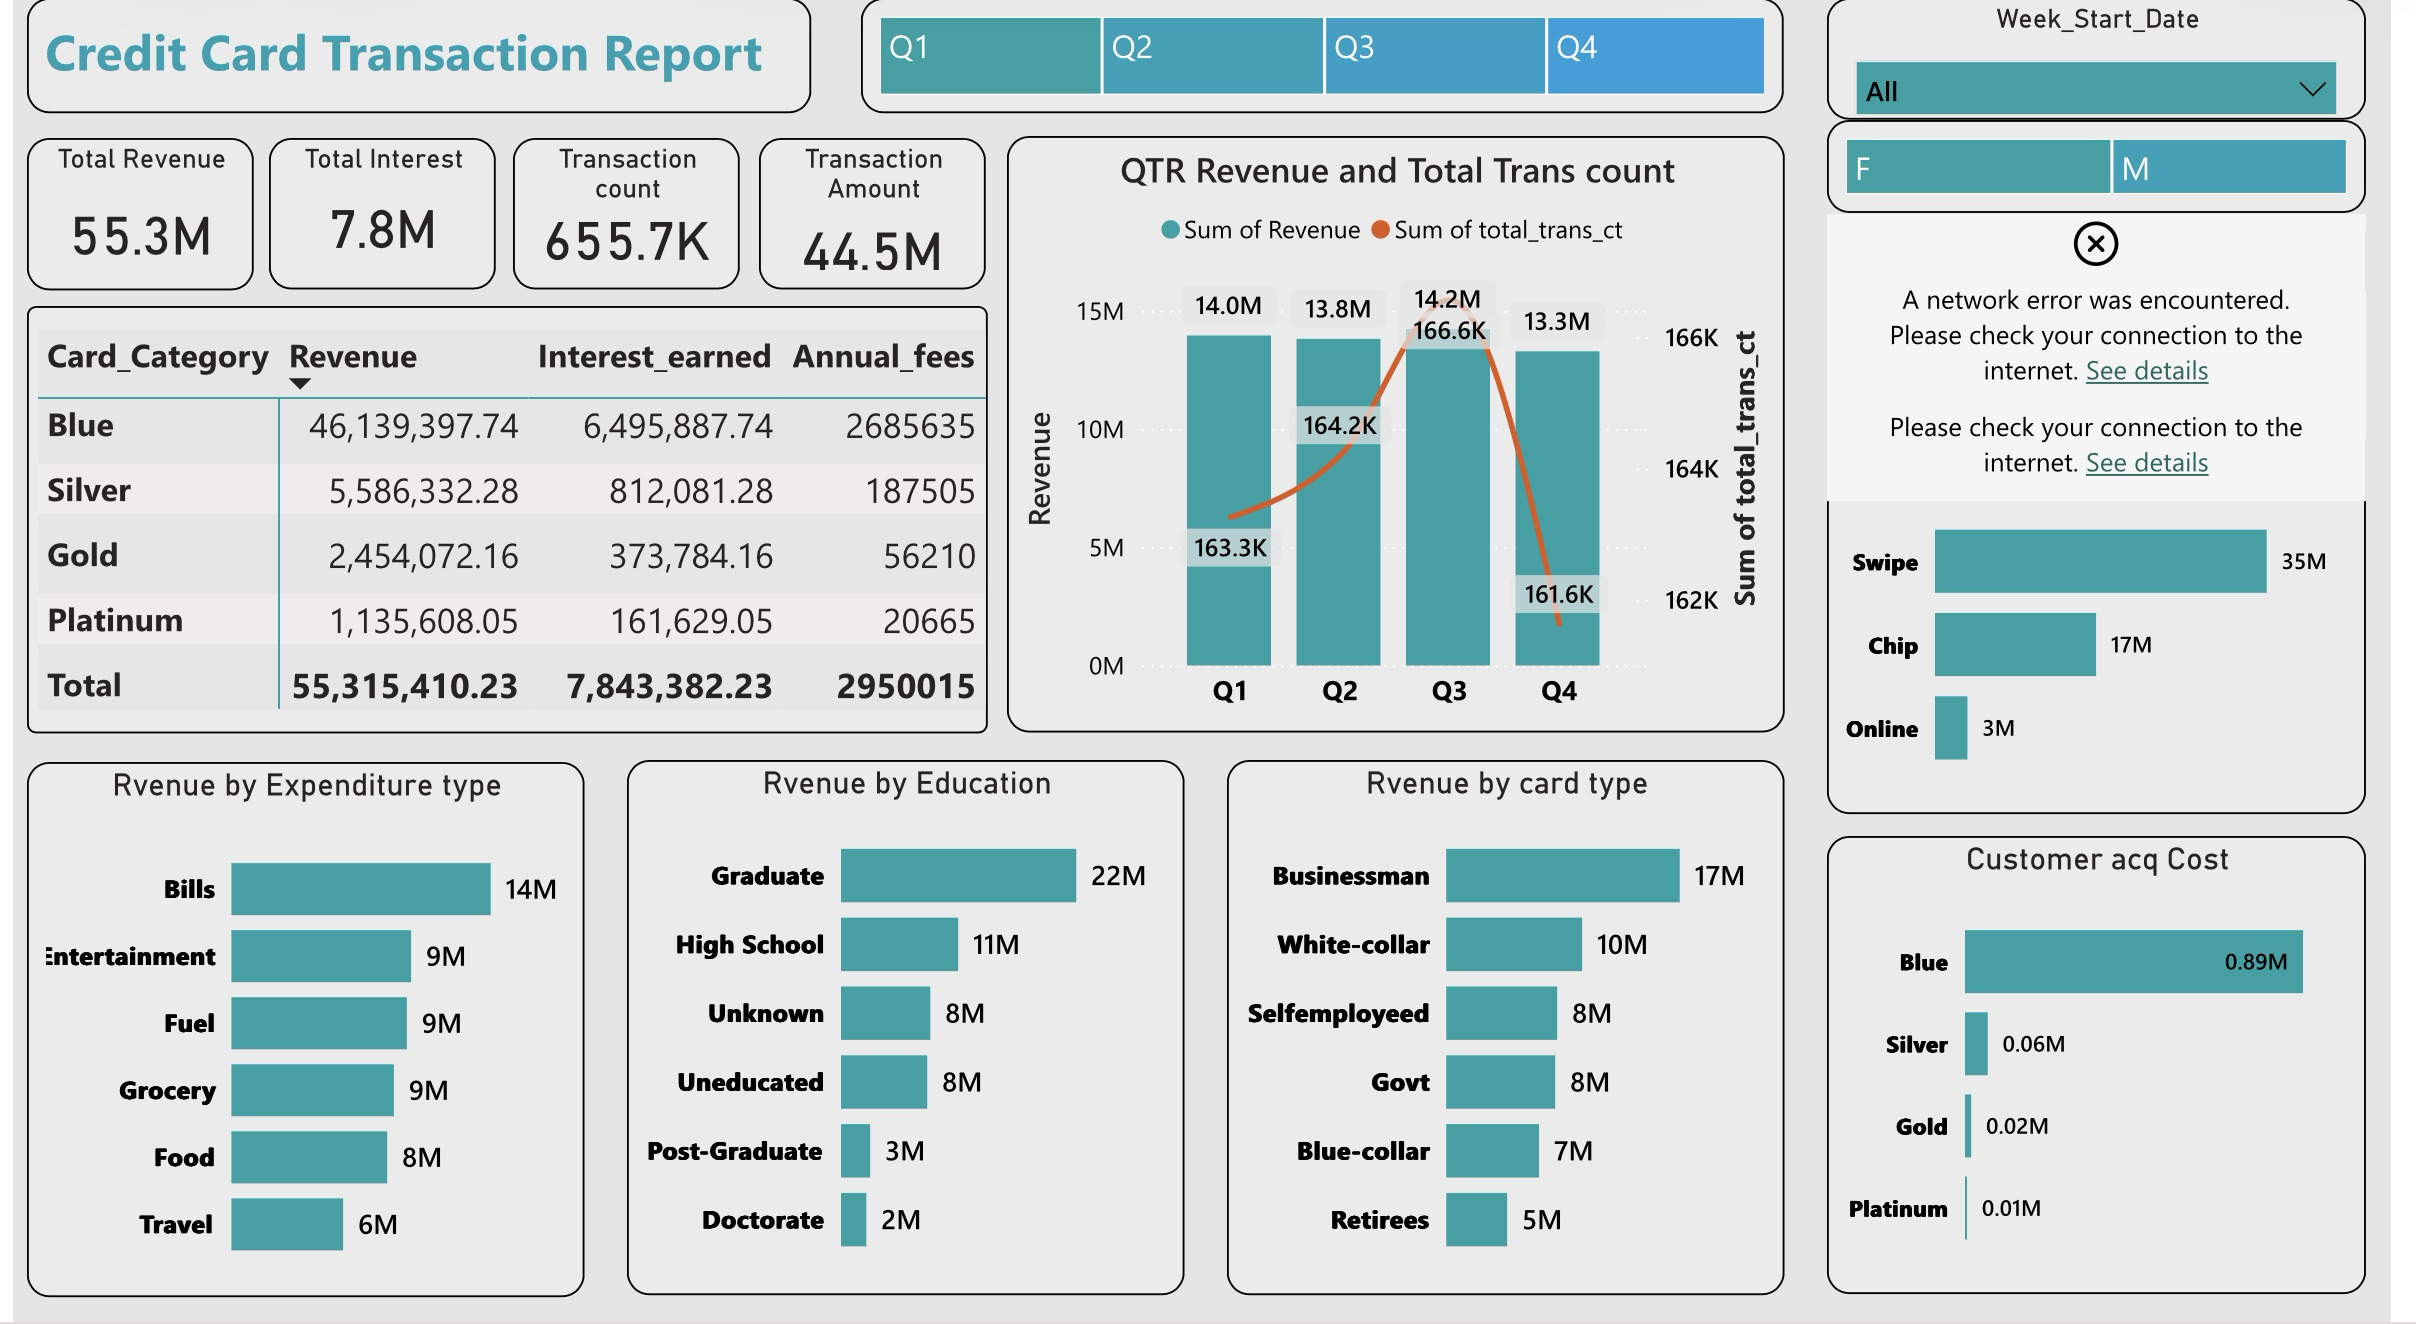

The page's visual inventory and layout, read from the dashboard file:
{"tool":"powerbi","page":{"name":"Page 1","canvas":[1280,720],"ordinal":0},"visuals":[{"type":"textbox","box":[7.8,7.8,422.2,62.2],"z":0},{"type":"lineStackedColumnComboChart","title":"QTR Revenue and Total Trans count","fields":{"Category":["public cc_detail.qtr"],"Y":["Sum(public cc_detail.Revenue)"],"Y2":["Sum(public cc_detail.total_trans_ct)"]},"box":[534.4,82.2,418.9,321.1],"z":1000},{"type":"barChart","title":"Rvenue by Education","fields":{"Y":["Sum(public cc_detail.Revenue)"],"Category":["public cust_detail.education_level","public cc_detail.card_category"]},"box":[330,417.8,300,287.8],"z":2000},{"type":"barChart","title":"Rvenue by Expenditure type","fields":{"Y":["Sum(public cc_detail.Revenue)"],"Category":["public cc_detail.exp_type"]},"box":[7.8,418.9,300,287.8],"z":3000},{"type":"treemap","fields":{"Group":["public cc_detail.qtr"],"Values":["CountNonNull(public cc_detail.Revenue)"]},"box":[456.7,7.8,496.7,62.2],"z":4000},{"type":"treemap","fields":{"Group":["public cust_detail.gender"],"Values":["Sum(public cc_detail.Revenue)"]},"box":[976.7,73.3,290,50],"z":5000},{"type":"barChart","title":"Rvenue by card type","fields":{"Y":["Sum(public cc_detail.Revenue)"],"Category":["public cust_detail.customer_job"]},"box":[653.3,417.8,300,287.8],"z":6000},{"type":"barChart","title":"Customer acq Cost","fields":{"Y":["Sum(public cc_detail.customer_acq_cost)"],"Category":["public cc_detail.card_category"]},"box":[976.7,458.9,290,246.7],"z":7000},{"type":"barChart","title":"Rvenue by card type","fields":{"Y":["Sum(public cc_detail.Revenue)"],"Category":["public cc_detail.use_chip"]},"box":[976.7,235.6,290,211.1],"z":8000},{"type":"card","title":"Total Revenue","fields":{"Values":["Sum(public cc_detail.Revenue)"]},"box":[7.4,82.7,122,82],"z":9000},{"type":"card","title":"Total Interest","fields":{"Values":["Sum(public cc_detail.interest_earned)"]},"box":[138.2,82.7,122.2,81.5],"z":10000},{"type":"card","title":"Transaction count","fields":{"Values":["Sum(public cc_detail.total_trans_ct)"]},"box":[269.1,82.7,122.2,81.5],"z":11000},{"type":"card","title":"Transaction Amount","fields":{"Values":["Sum(public cc_detail.total_trans_amt)"]},"box":[401.2,82.7,122.2,81.5],"z":12000},{"type":"pivotTable","fields":{"Rows":["public cc_detail.card_category"],"Values":["Sum(public cc_detail.Revenue)","Sum(public cc_detail.interest_earned)","Sum(public cc_detail.annual_fees)"]},"box":[7.1,172.9,517.1,230],"z":13000},{"type":"slicer","title":"Week_Start_Date","fields":{"Values":["public cc_detail.week_start_date"]},"box":[976.7,7.8,290,65.6],"z":14000},{"type":"treemap","fields":{"Group":["public cc_detail.card_category"],"Values":["select"]},"box":[976.7,173.3,290,50],"z":15000},{"type":"treemap","fields":{"Group":["public cust_detail.IncomeGroup"],"Values":["select"]},"box":[976.7,123.3,290,50],"z":16000}]}

Visuals, with their boxes in screenshot pixels (x1, y1, x2, y2), scaled from the page's 1280x720 canvas onto the 2416x1324 screenshot:
textbox: <region>15, 14, 812, 129</region>
"QTR Revenue and Total Trans count" lineStackedColumnComboChart: <region>1009, 151, 1799, 742</region>
"Rvenue by Education" barChart: <region>623, 768, 1189, 1298</region>
"Rvenue by Expenditure type" barChart: <region>15, 770, 581, 1300</region>
treemap - public cc_detail.qtr x CountNonNull(public cc_detail.Revenue): <region>862, 14, 1800, 129</region>
treemap - public cust_detail.gender x Sum(public cc_detail.Revenue): <region>1844, 135, 2391, 227</region>
"Rvenue by card type" barChart: <region>1233, 768, 1799, 1298</region>
"Customer acq Cost" barChart: <region>1844, 844, 2391, 1298</region>
"Rvenue by card type" barChart: <region>1844, 433, 2391, 821</region>
"Total Revenue" card: <region>14, 152, 244, 303</region>
"Total Interest" card: <region>261, 152, 492, 302</region>
"Transaction count" card: <region>508, 152, 739, 302</region>
"Transaction Amount" card: <region>757, 152, 988, 302</region>
pivotTable - public cc_detail.card_category x Sum(public cc_detail.Revenue): <region>13, 318, 989, 741</region>
"Week_Start_Date" slicer: <region>1844, 14, 2391, 135</region>
treemap - public cc_detail.card_category x select: <region>1844, 319, 2391, 411</region>
treemap - public cust_detail.IncomeGroup x select: <region>1844, 227, 2391, 319</region>
